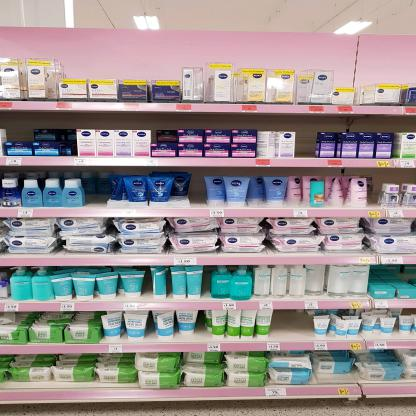Void: (32, 115, 282, 130), (270, 311, 311, 344), (331, 116, 411, 132), (75, 184, 118, 208), (185, 173, 205, 207), (0, 112, 25, 138), (296, 122, 316, 154), (373, 266, 409, 283), (369, 167, 405, 183)
